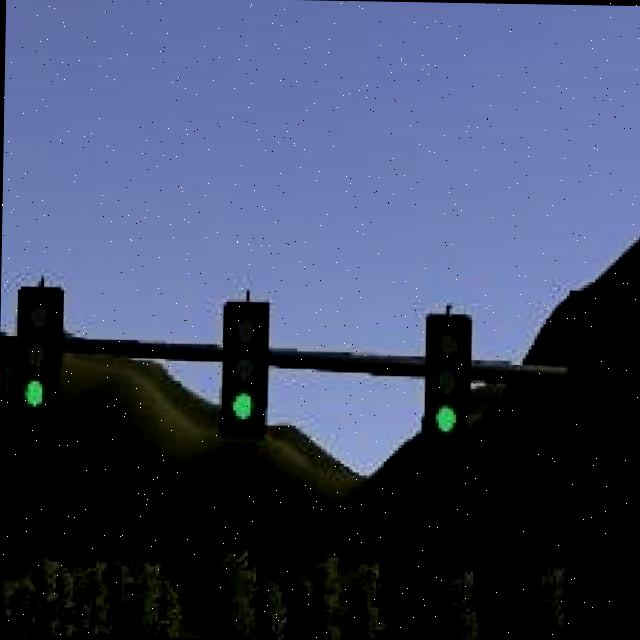Zielone swiatlo: (221, 304, 272, 440), (16, 286, 64, 424), (424, 311, 472, 444)
